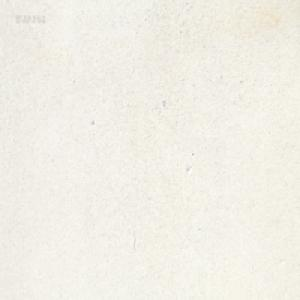Washer: (161, 99, 165, 105)
